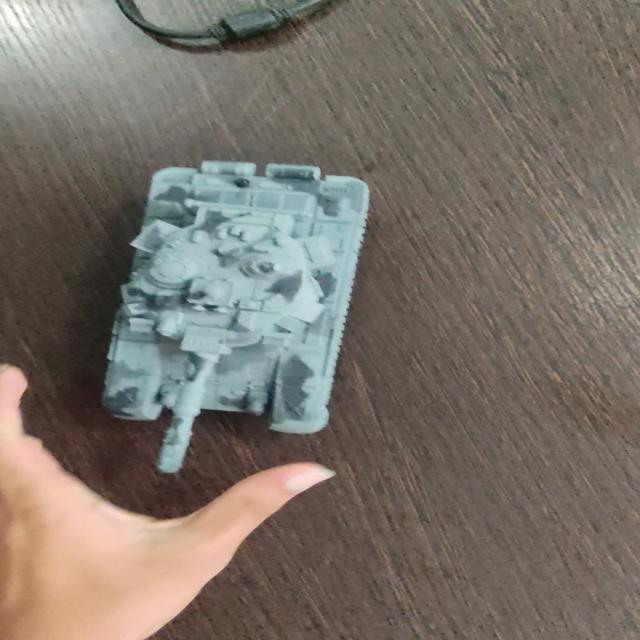tank: (102, 162, 369, 474)
